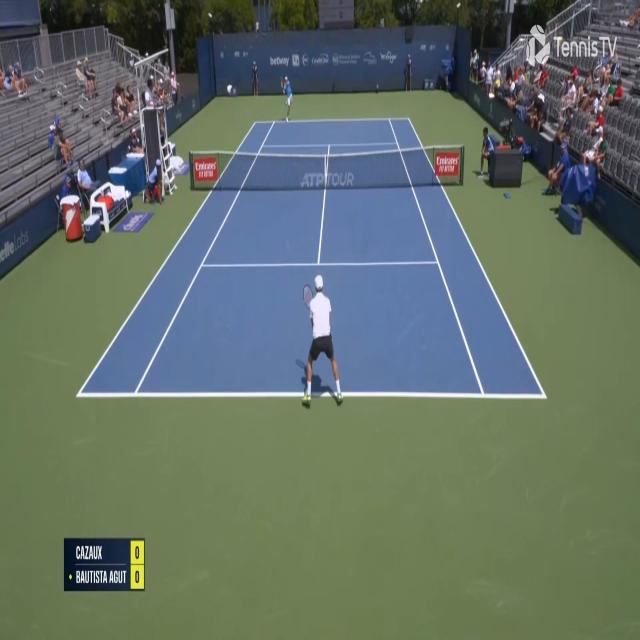tennis-player: (295, 270, 346, 416), (281, 74, 293, 122)
